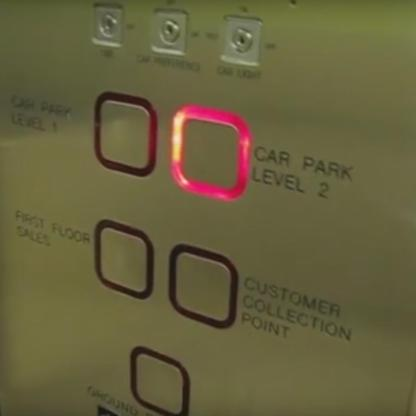empty: (168, 103, 254, 205), (166, 239, 240, 332), (90, 88, 158, 181), (92, 216, 156, 302), (127, 342, 192, 416)
keyhole: (219, 12, 264, 70), (150, 7, 189, 56), (90, 2, 124, 48)
